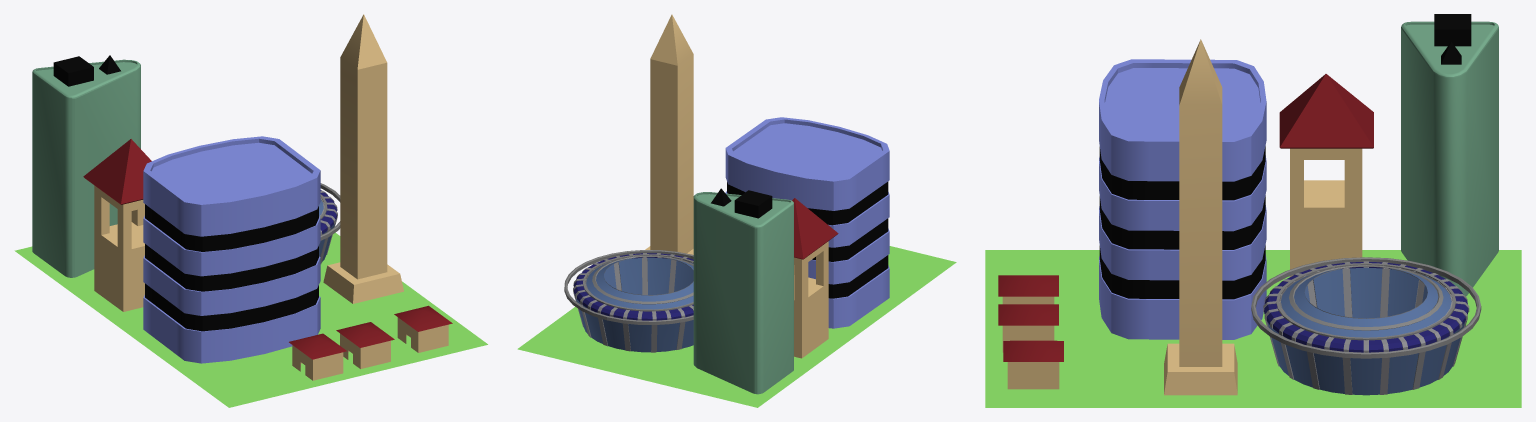
File: cidade 3.fbx
3 renders of one model, left to right at view 1: azimuth 30°, elevation 25°; view 2: azimuth 150°, elevation 25°; view 3: azimuth 270°, elevation 25°, orthographic. The views are drawn at different scales.
Parts seen in each view (by area): view 1: Prédio Curvado.002; view 2: Prédio Curvado.002; view 3: Prédio Curvado.002.
Part boxes in pixels (left/top/right/bottom): Prédio Curvado.002: left=14, top=14, right=487, bottom=407; Prédio Curvado.002: left=517, top=14, right=956, bottom=407; Prédio Curvado.002: left=985, top=14, right=1521, bottom=407.
Size of the model in its own units: 1166 by 1195 by 1671.
